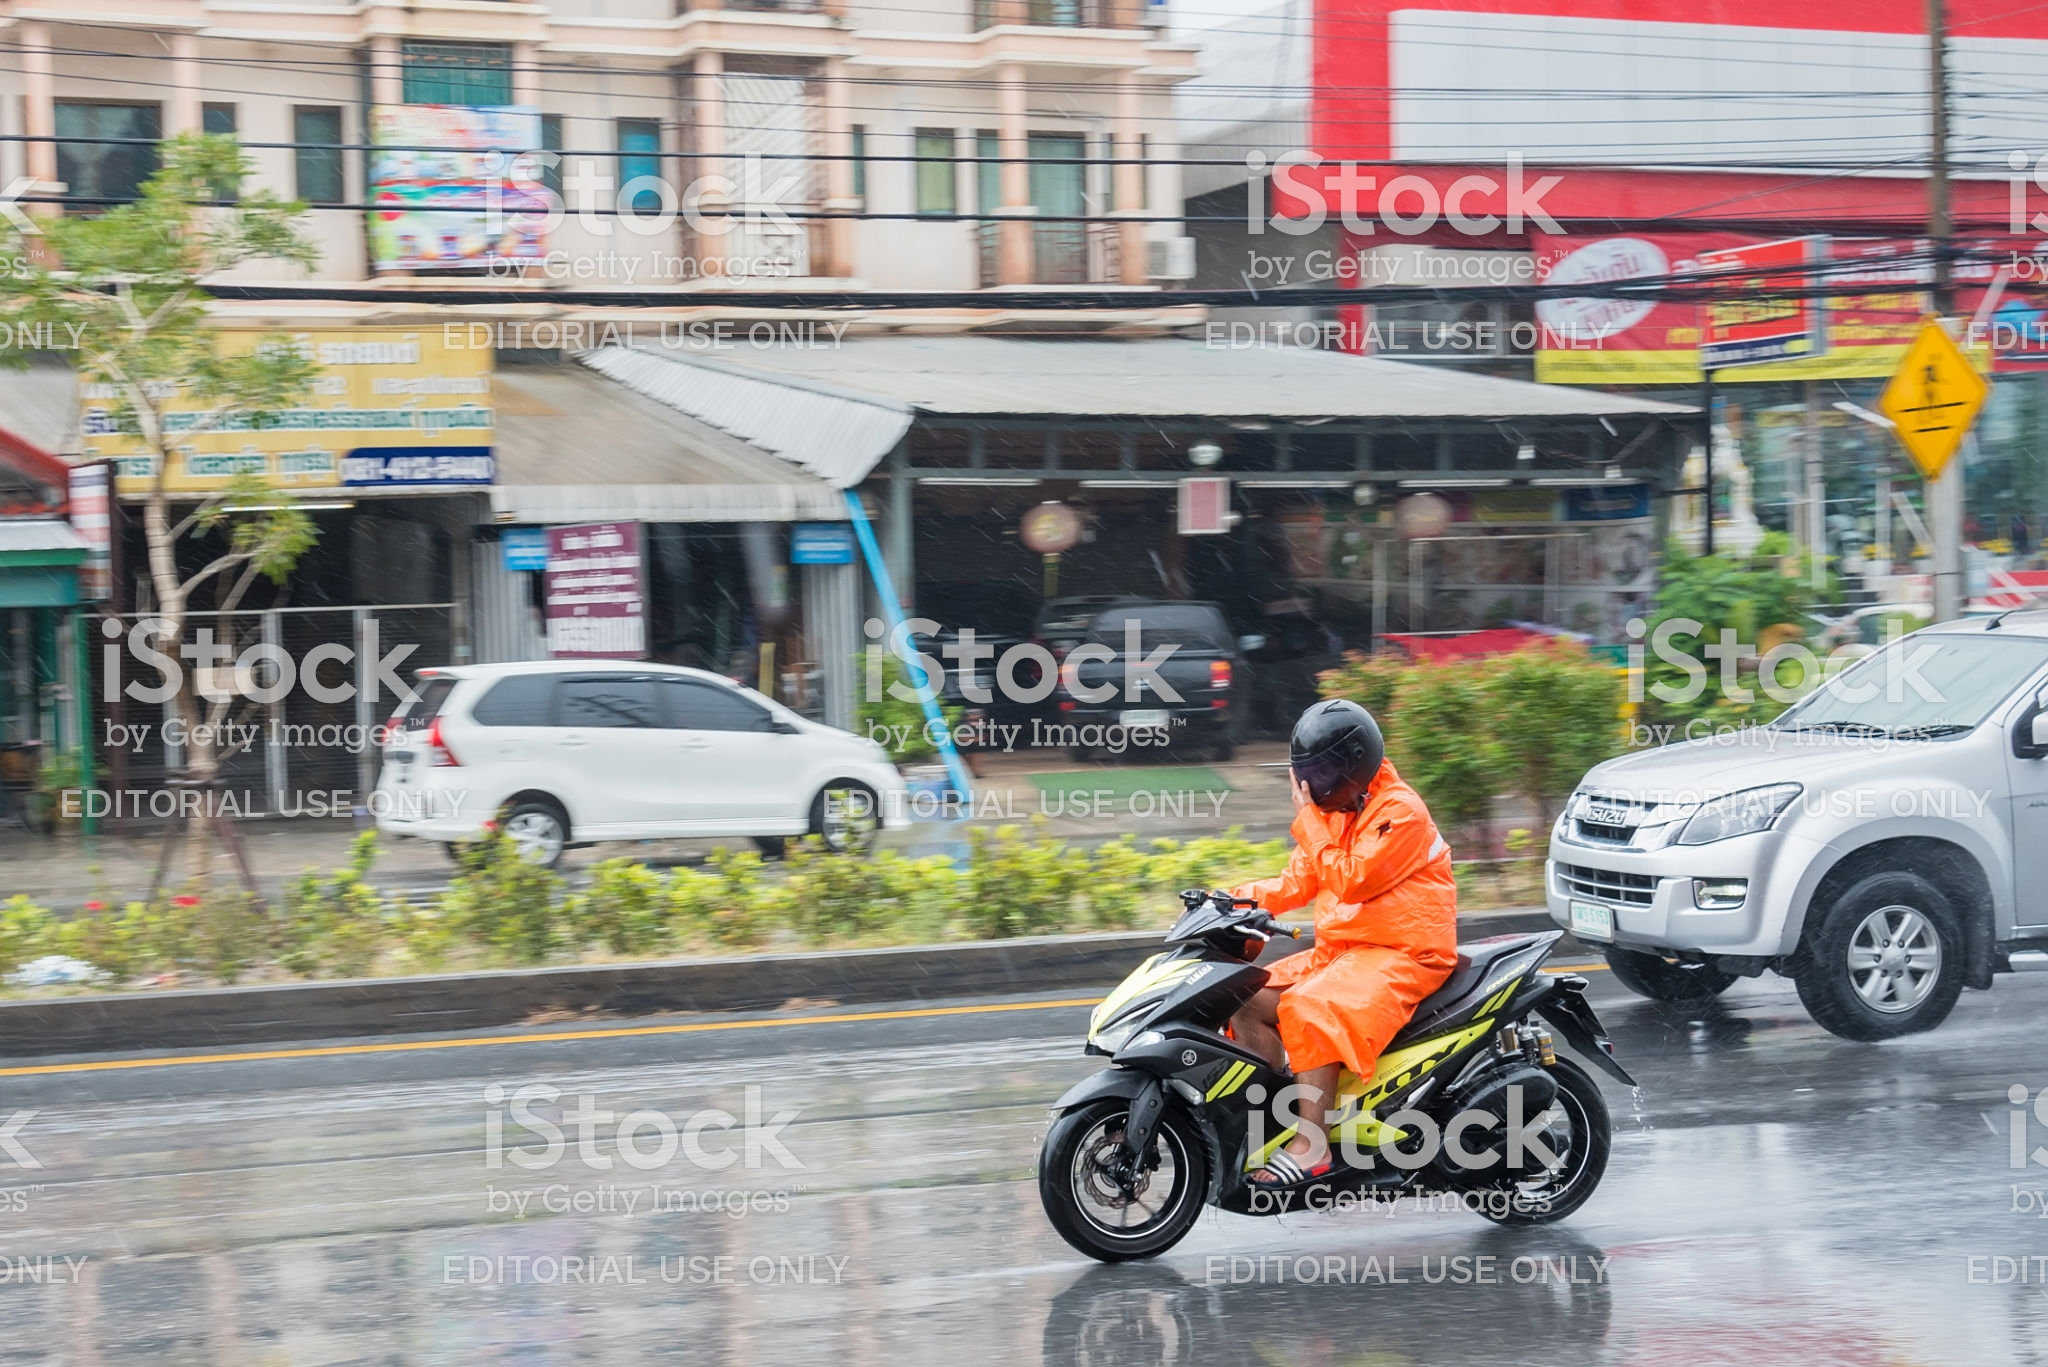helmet: (1281, 703, 1386, 816)
